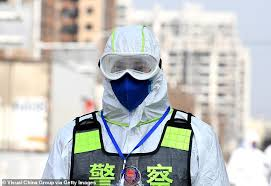mask: (107, 48, 153, 107)
